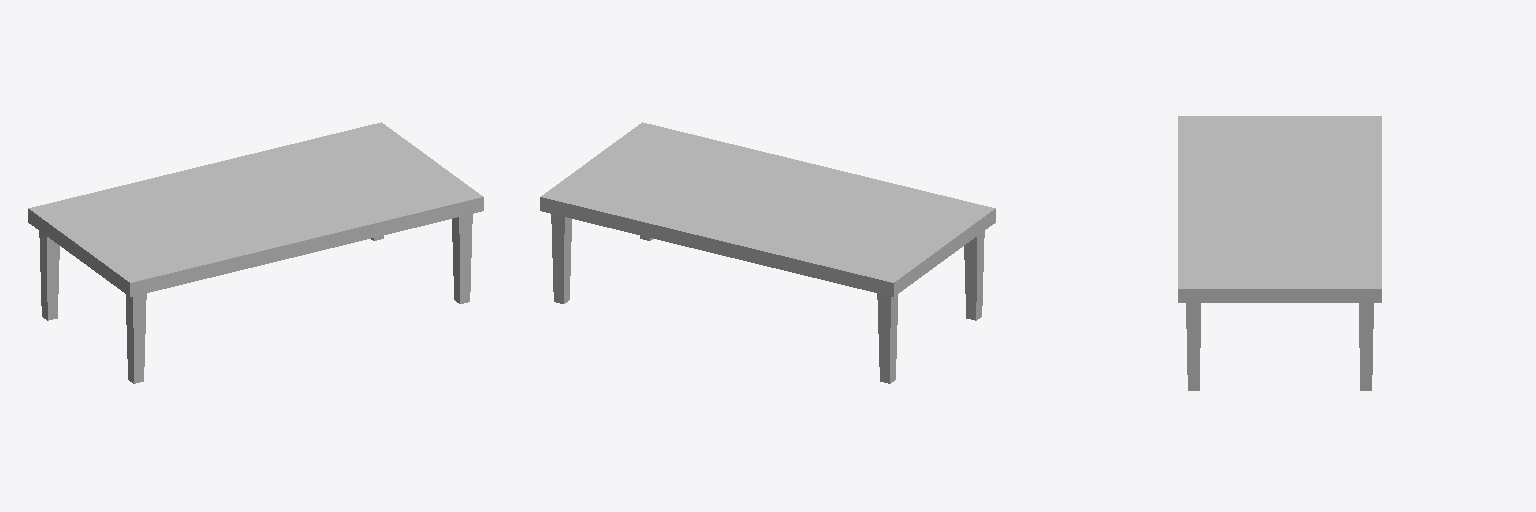
File: table_1.obj
3 renders of one model, left to right at view 1: azimuth 30°, elevation 25°; view 2: azimuth 150°, elevation 25°; view 3: azimuth 270°, elevation 25°, orthographic.
Visible parts, largest first — view 1: table_1; view 2: table_1; view 3: table_1.
Boxes of the visible parts, box(x1,y1,x2,y2) form: table_1: box(28, 122, 483, 383); table_1: box(540, 122, 995, 383); table_1: box(1178, 116, 1381, 390).
Bounding box in the file's own units: 5.2 × 1.5 × 2.6.